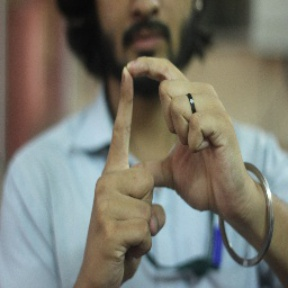D: (90, 50, 224, 203)
